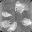people: (15, 1, 24, 14), (21, 18, 32, 26), (9, 21, 17, 31), (1, 20, 11, 28), (2, 11, 12, 18)
